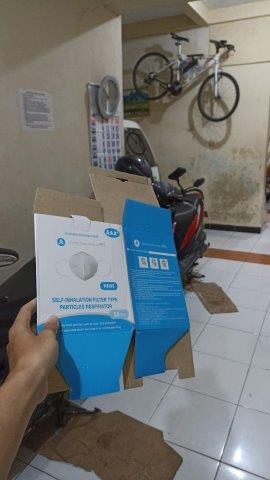kardus: (38, 167, 195, 396), (29, 402, 182, 480), (193, 281, 239, 315)
